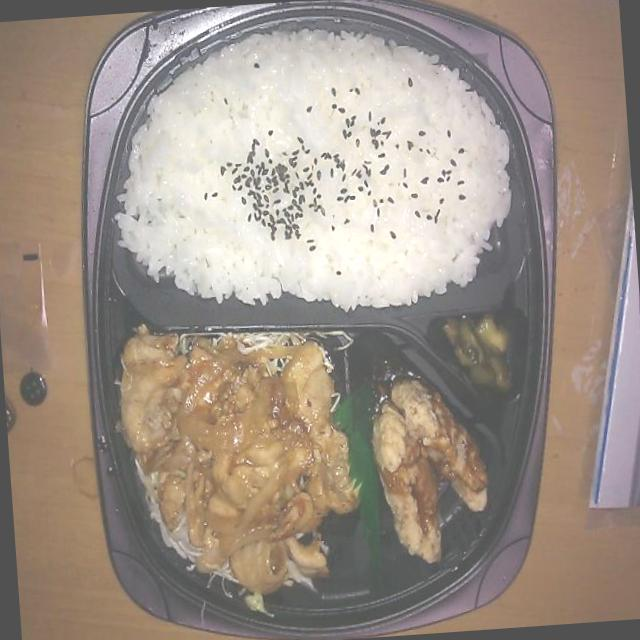Rice: (95, 14, 518, 326)
